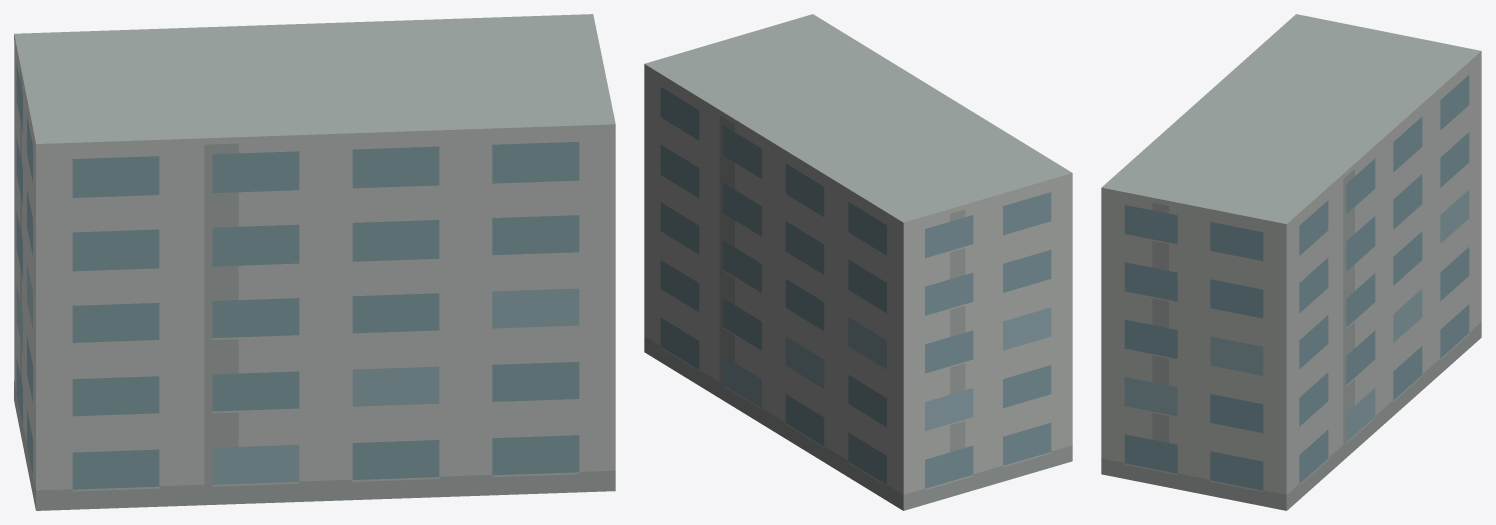
The model's file is survey-upis-32552452.glb.
The picture shows the model from 3 angles, left to right: view 1: azimuth 30°, elevation 25°; view 2: azimuth 150°, elevation 25°; view 3: azimuth 270°, elevation 25°; orthographic projection. The views are drawn at different scales.
Parts seen in each view (by area): view 1: survey-upis-32552452.tmp; view 2: survey-upis-32552452.tmp; view 3: survey-upis-32552452.tmp.
Boxes of the visible parts, x1,y1,x2,y2 form: survey-upis-32552452.tmp: (14, 14, 615, 510); survey-upis-32552452.tmp: (644, 14, 1072, 510); survey-upis-32552452.tmp: (1101, 14, 1481, 510).
Size of the model in its own units: 22.18 by 14.1 by 16.95.
